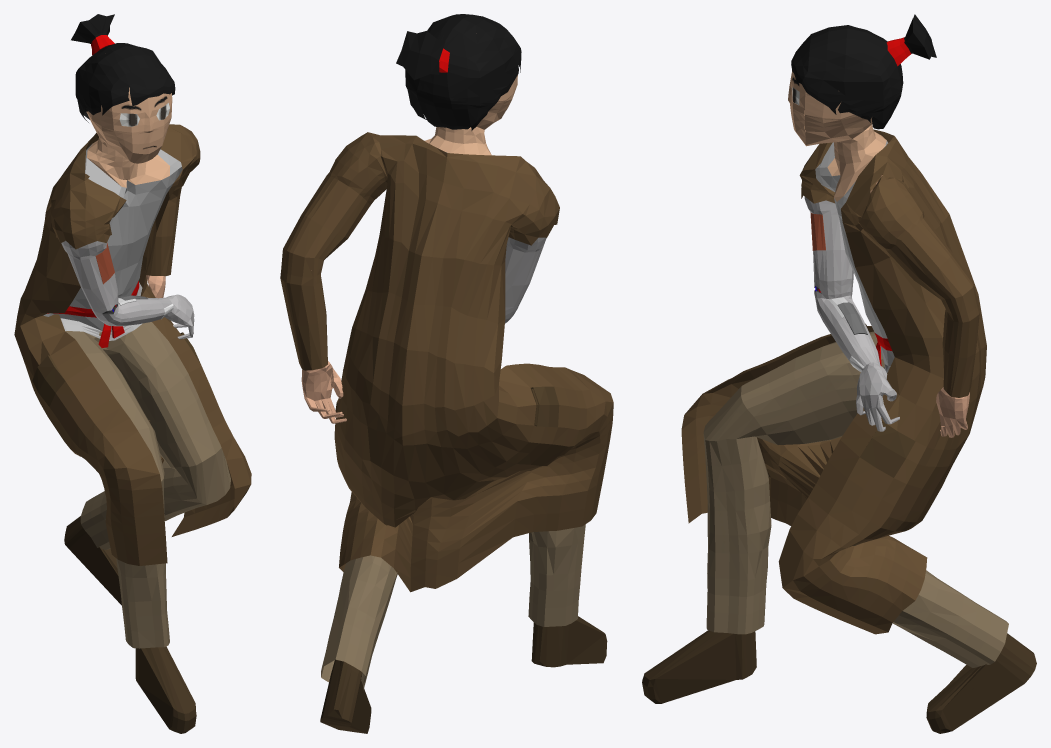
File: One_DB_000005.obj
3 renders of one model, left to right at view 1: azimuth 30°, elevation 25°; view 2: azimuth 150°, elevation 25°; view 3: azimuth 270°, elevation 25°, orthographic. The views are drawn at different scales.
Visible parts, largest first — view 1: Hair_Cube.004; view 2: Hair_Cube.004; view 3: Hair_Cube.004.
Part boxes in pixels (x1=…): Hair_Cube.004: x1=14, y1=14, x2=251, y2=733; Hair_Cube.004: x1=280, y1=14, x2=613, y2=733; Hair_Cube.004: x1=642, y1=14, x2=1036, y2=733.
Size of the model in its own units: 1.09 by 3.48 by 1.78.
